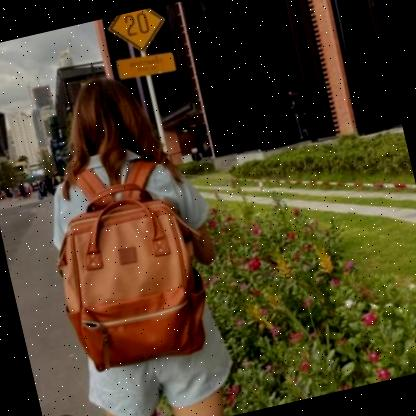bag: (30, 145, 227, 386)
person: (5, 44, 265, 416)
